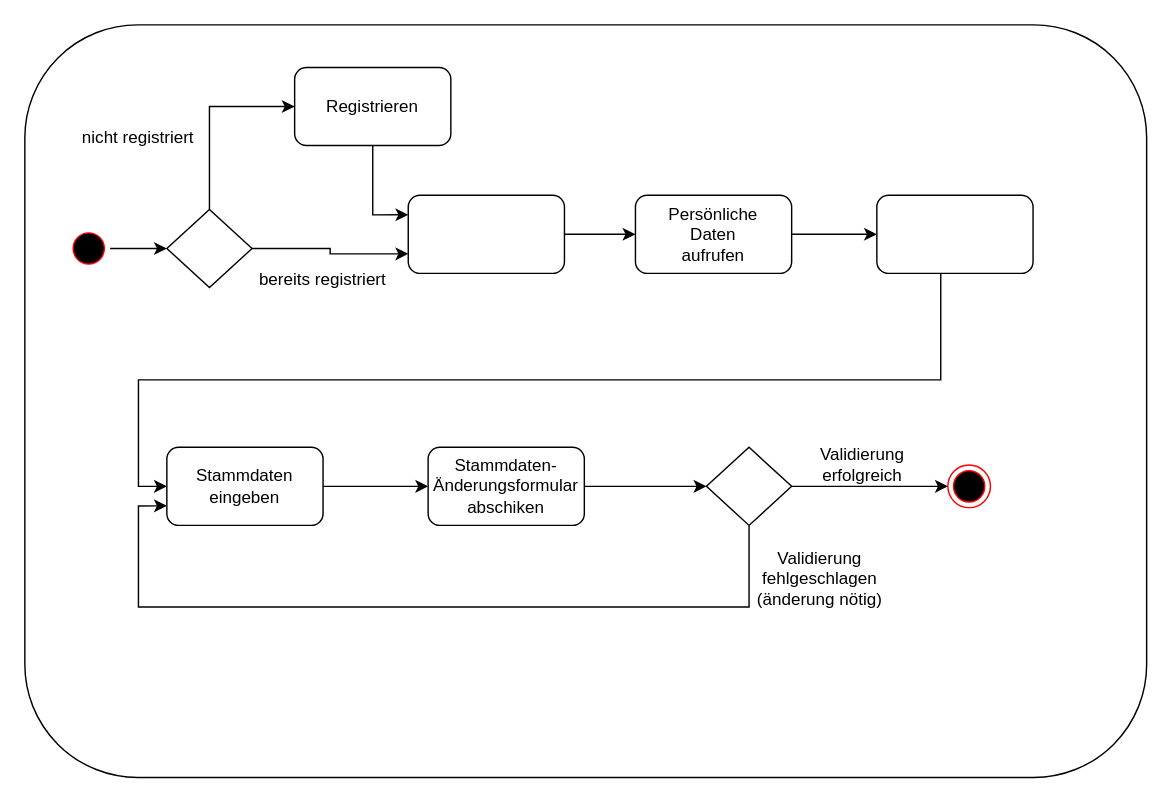
Some shapes in this 1172 by 802 pixel diagram are drawn without their labels. Each missing label, with the centre of its shape:
Einloggen: (x=485, y=233)
Stammdaten- Änderungsformular aufrufen: (x=954, y=233)
